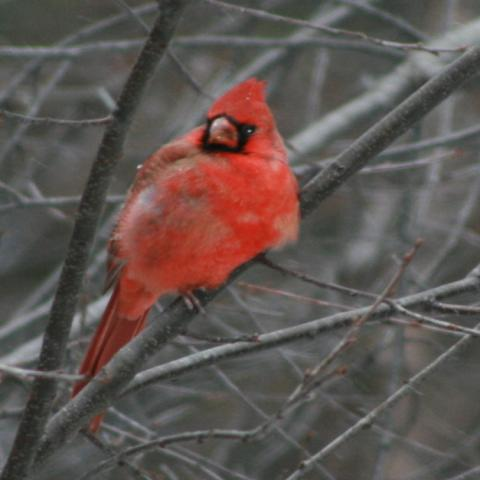bird: (67, 75, 302, 433)
